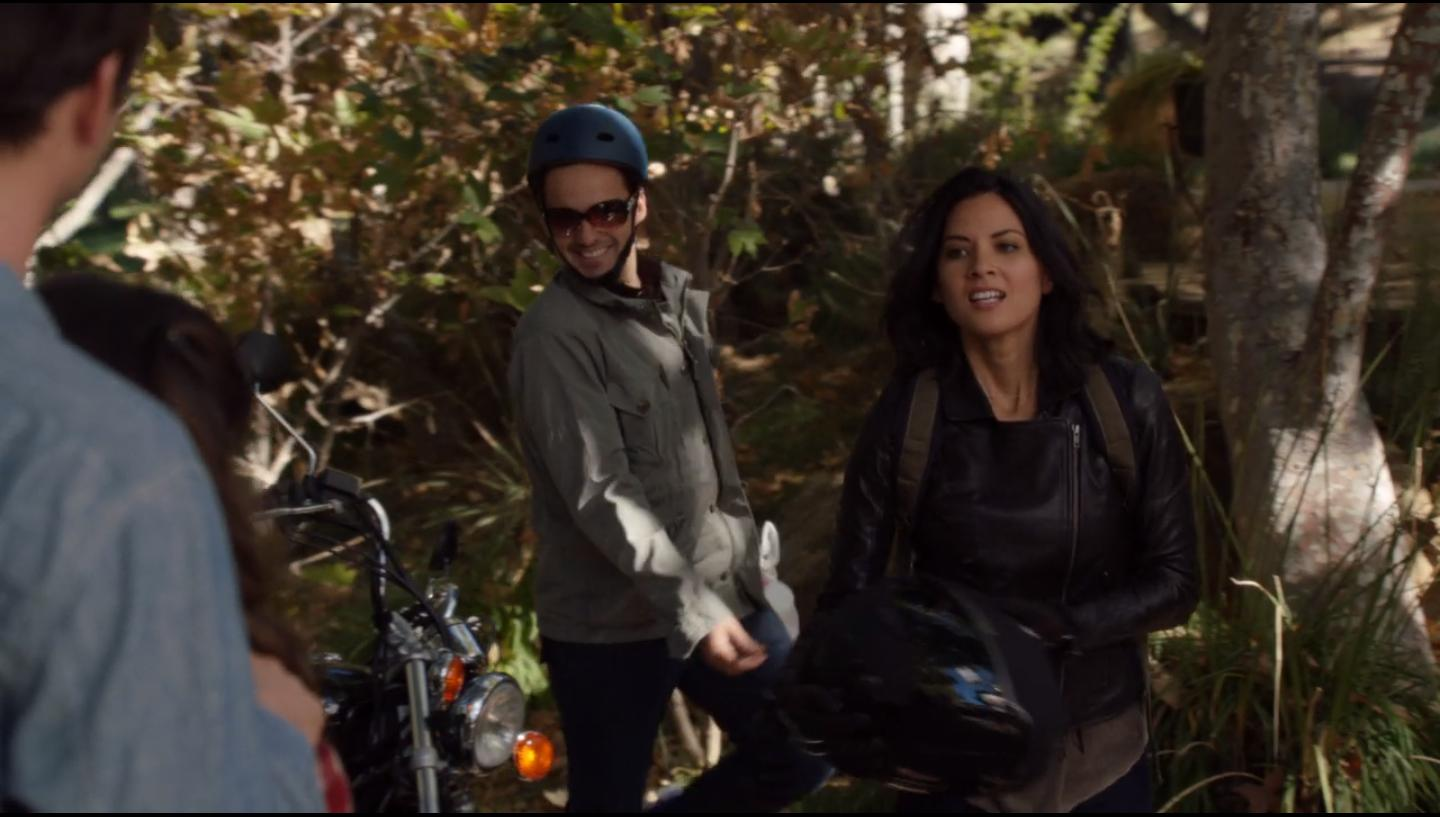person: (1, 1, 366, 810), (461, 100, 835, 809), (845, 131, 1187, 814)
